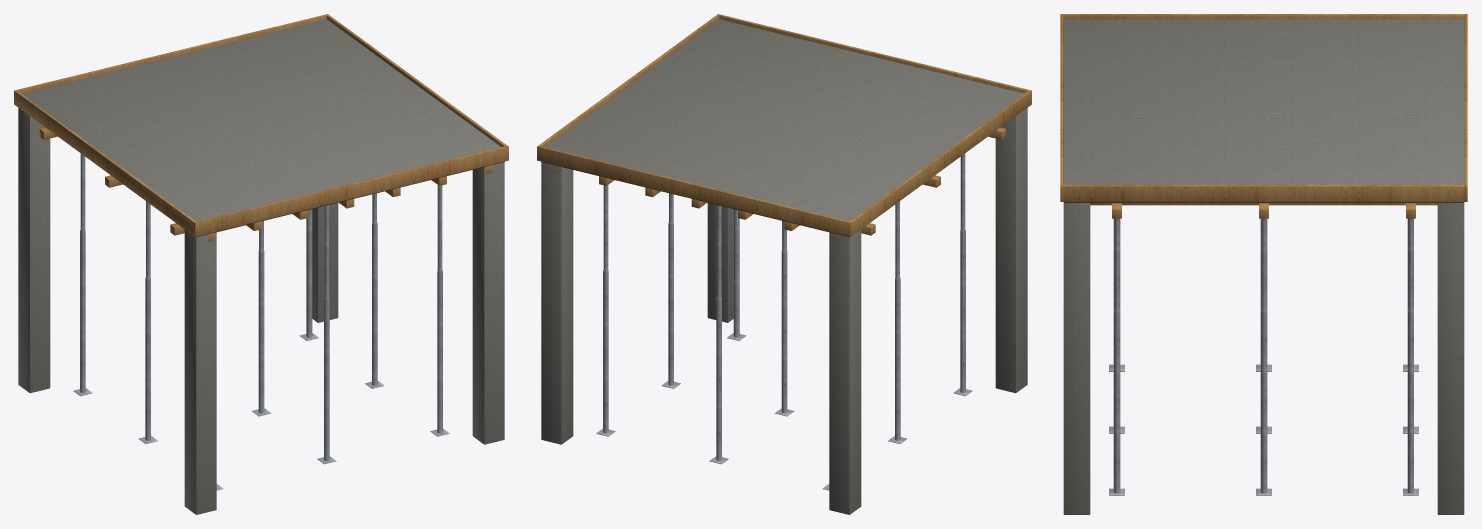
The model's file is KIT-EST-03.glb.
3 views of the same model, side by side, from view 1: azimuth 30°, elevation 25°; view 2: azimuth 150°, elevation 25°; view 3: azimuth 270°, elevation 25° (orthographic). The views are drawn at different scales.
Parts seen in each view (by area): view 1: KIT-EST-03_laje, KIT-EST-03_pilar, KIT-EST-03_pilar.002, KIT-EST-03_pilar.001, KIT-EST-03_borda, KIT-EST-03_borda.002, KIT-EST-03_pilar.003, KIT-EST-03_borda.001, KIT-EST-03_borda.003, KIT-EST-03_et1.004, KIT-EST-03_et1.006, KIT-EST-03_et1.007 (+5 smaller); view 2: KIT-EST-03_laje, KIT-EST-03_pilar.001, KIT-EST-03_pilar.003, KIT-EST-03_pilar, KIT-EST-03_borda.001, KIT-EST-03_borda.002, KIT-EST-03_pilar.002, KIT-EST-03_borda, KIT-EST-03_borda.003, KIT-EST-03_et1.004, KIT-EST-03_et1.007, KIT-EST-03_et1.008 (+5 smaller); view 3: KIT-EST-03_laje, KIT-EST-03_pilar.002, KIT-EST-03_pilar.003, KIT-EST-03_borda.003, KIT-EST-03_borda.002, KIT-EST-03_et1.006, KIT-EST-03_et1.007, KIT-EST-03_viga.006, KIT-EST-03_et1.008, KIT-EST-03_borda, KIT-EST-03_borda.001, KIT-EST-03_et2.006 (+2 smaller).
Boxes of the visible parts, bbox=[...] form: KIT-EST-03_laje: bbox=[22, 19, 500, 221]; KIT-EST-03_pilar: bbox=[184, 230, 216, 514]; KIT-EST-03_pilar.002: bbox=[472, 162, 504, 444]; KIT-EST-03_pilar.001: bbox=[18, 108, 50, 393]; KIT-EST-03_borda: bbox=[193, 145, 508, 236]; KIT-EST-03_borda.002: bbox=[15, 91, 195, 235]; KIT-EST-03_pilar.003: bbox=[312, 203, 338, 322]; KIT-EST-03_borda.001: bbox=[14, 14, 328, 105]; KIT-EST-03_borda.003: bbox=[326, 15, 506, 146]; KIT-EST-03_et1.004: bbox=[258, 250, 264, 412]; KIT-EST-03_et1.006: bbox=[437, 270, 442, 433]; KIT-EST-03_et1.007: bbox=[372, 222, 377, 385]; KIT-EST-03_laje: bbox=[545, 19, 1023, 221]; KIT-EST-03_pilar.001: bbox=[829, 230, 861, 514]; KIT-EST-03_pilar.003: bbox=[541, 162, 573, 444]; KIT-EST-03_pilar: bbox=[995, 108, 1027, 393]; KIT-EST-03_borda.001: bbox=[537, 145, 852, 236]; KIT-EST-03_borda.002: bbox=[850, 91, 1030, 235]; KIT-EST-03_pilar.002: bbox=[707, 203, 733, 322]; KIT-EST-03_borda: bbox=[717, 14, 1031, 105]; KIT-EST-03_borda.003: bbox=[539, 15, 719, 146]; KIT-EST-03_et1.004: bbox=[781, 250, 787, 412]; KIT-EST-03_et1.007: bbox=[668, 222, 673, 385]; KIT-EST-03_et1.008: bbox=[603, 270, 608, 433]; KIT-EST-03_laje: bbox=[1063, 19, 1464, 184]; KIT-EST-03_pilar.002: bbox=[1063, 202, 1090, 514]; KIT-EST-03_pilar.003: bbox=[1437, 202, 1464, 514]; KIT-EST-03_borda.003: bbox=[1063, 184, 1464, 201]; KIT-EST-03_borda.002: bbox=[1063, 14, 1464, 19]; KIT-EST-03_et1.006: bbox=[1113, 310, 1120, 493]; KIT-EST-03_et1.007: bbox=[1260, 310, 1267, 493]; KIT-EST-03_viga.006: bbox=[1090, 202, 1437, 205]; KIT-EST-03_et1.008: bbox=[1407, 310, 1413, 493]; KIT-EST-03_borda: bbox=[1060, 14, 1063, 201]; KIT-EST-03_borda.001: bbox=[1464, 14, 1467, 201]; KIT-EST-03_et2.006: bbox=[1114, 218, 1119, 311].
Size of the model in its own units: 3.05 by 2.73 by 3.05.
Materials: 5 (5 with a texture image).
